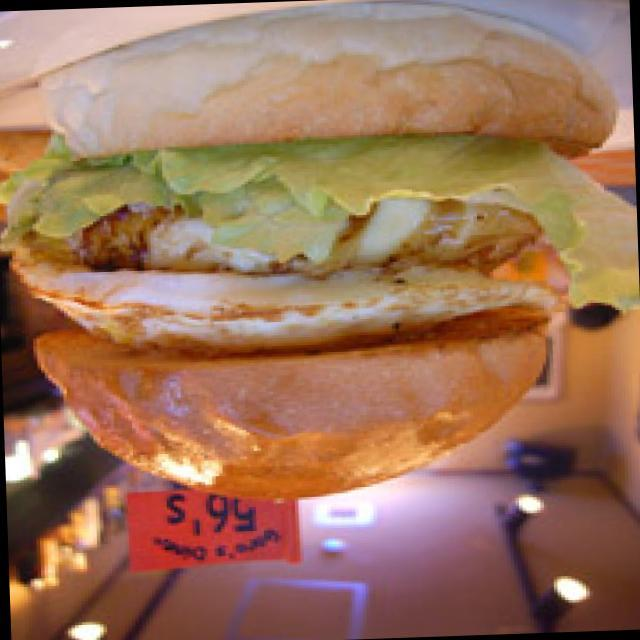Hamburger: (0, 4, 605, 506)
